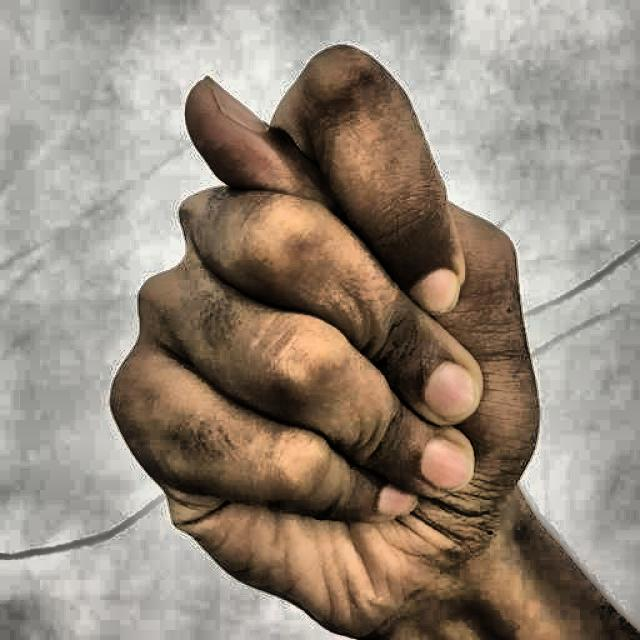Ta: (88, 24, 572, 640)
